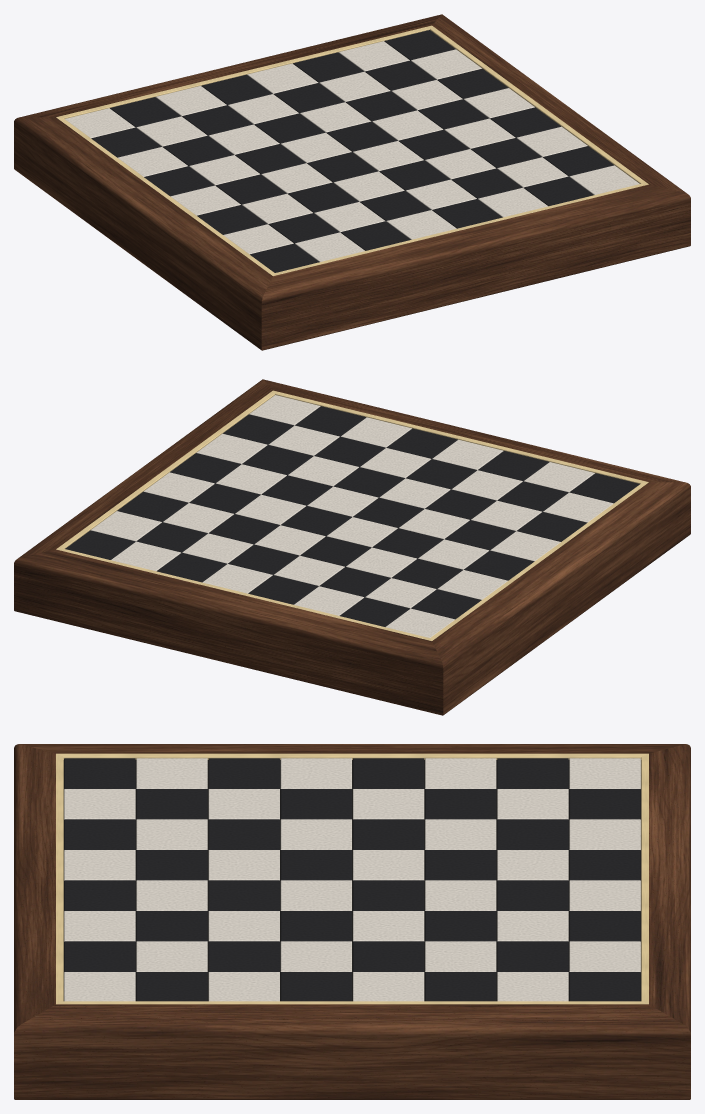
File: board.glb
3 views of the same model, one above another, from view 1: azimuth 30°, elevation 25°; view 2: azimuth 150°, elevation 25°; view 3: azimuth 270°, elevation 25° (orthographic). The views are drawn at different scales.
Parts seen in each view (by area): view 1: Walnut_Frame, Squares_Dark, Squares_Light, Brass_Inlay; view 2: Walnut_Frame, Squares_Light, Squares_Dark, Brass_Inlay; view 3: Walnut_Frame, Squares_Dark, Squares_Light, Brass_Inlay, Joint_Bed.
Boxes of the visible parts, left/top/right/bottom form: Walnut_Frame: left=14, top=14, right=690, bottom=350; Squares_Dark: left=91, top=30, right=613, bottom=272; Squares_Light: left=65, top=41, right=639, bottom=261; Brass_Inlay: left=56, top=25, right=648, bottom=275; Walnut_Frame: left=14, top=379, right=690, bottom=715; Squares_Light: left=91, top=395, right=613, bottom=637; Squares_Dark: left=65, top=406, right=639, bottom=626; Brass_Inlay: left=56, top=390, right=648, bottom=640; Walnut_Frame: left=14, top=744, right=690, bottom=1099; Squares_Dark: left=64, top=758, right=640, bottom=1001; Squares_Light: left=64, top=758, right=640, bottom=1001; Brass_Inlay: left=56, top=753, right=648, bottom=1004; Joint_Bed: left=63, top=760, right=641, bottom=1001.
Bounding box in the file's own units: 9.37 × 1.2 × 9.37.
5 materials, 4 textured.
